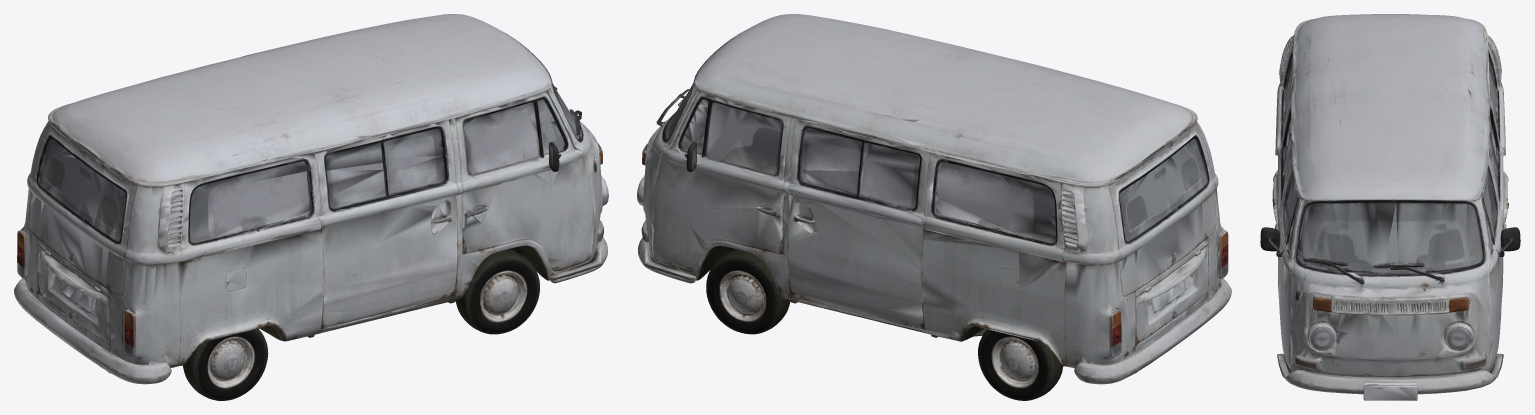
The model's file is pao-de-forma__01a16954.glb.
3 renders of one model, left to right at view 1: azimuth 30°, elevation 25°; view 2: azimuth 150°, elevation 25°; view 3: azimuth 270°, elevation 25°, orthographic. The views are drawn at different scales.
Visible parts, largest first — view 1: pao-de-forma__01a16954; view 2: pao-de-forma__01a16954; view 3: pao-de-forma__01a16954.
Part boxes in pixels (bbox=[...]): pao-de-forma__01a16954: bbox=[14, 14, 608, 400]; pao-de-forma__01a16954: bbox=[637, 14, 1231, 400]; pao-de-forma__01a16954: bbox=[1260, 14, 1520, 400].
Size of the model in its own units: 4.5 by 2.1 by 2.19.
1 material, 1 textured.
